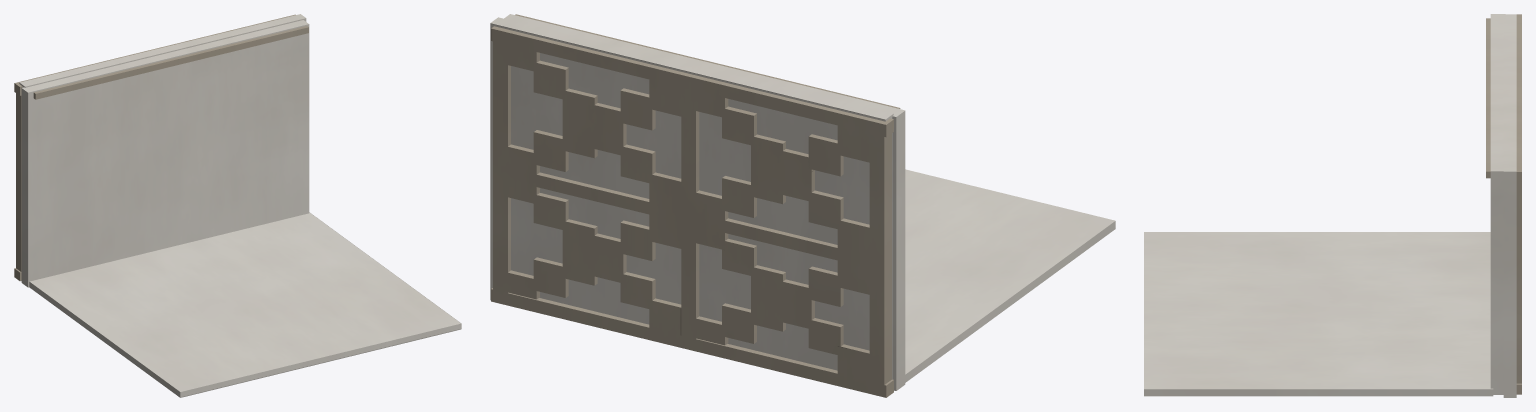
Rendered from med_wall_limewash.glb.
3 views of the same model, side by side, from view 1: azimuth 30°, elevation 25°; view 2: azimuth 150°, elevation 25°; view 3: azimuth 270°, elevation 25° (orthographic). The views are drawn at different scales.
Parts seen in each view (by area): view 1: med_wall_limewash; view 2: med_wall_limewash; view 3: med_wall_limewash.
Boxes of the visible parts, <box> form: med_wall_limewash: <box>14,14,461,397</box>; med_wall_limewash: <box>490,14,1115,397</box>; med_wall_limewash: <box>1144,14,1521,397</box>.
Size of the model in its own units: 4.04 by 2.68 by 4.06.
Materials: 1 (1 with a texture image).
